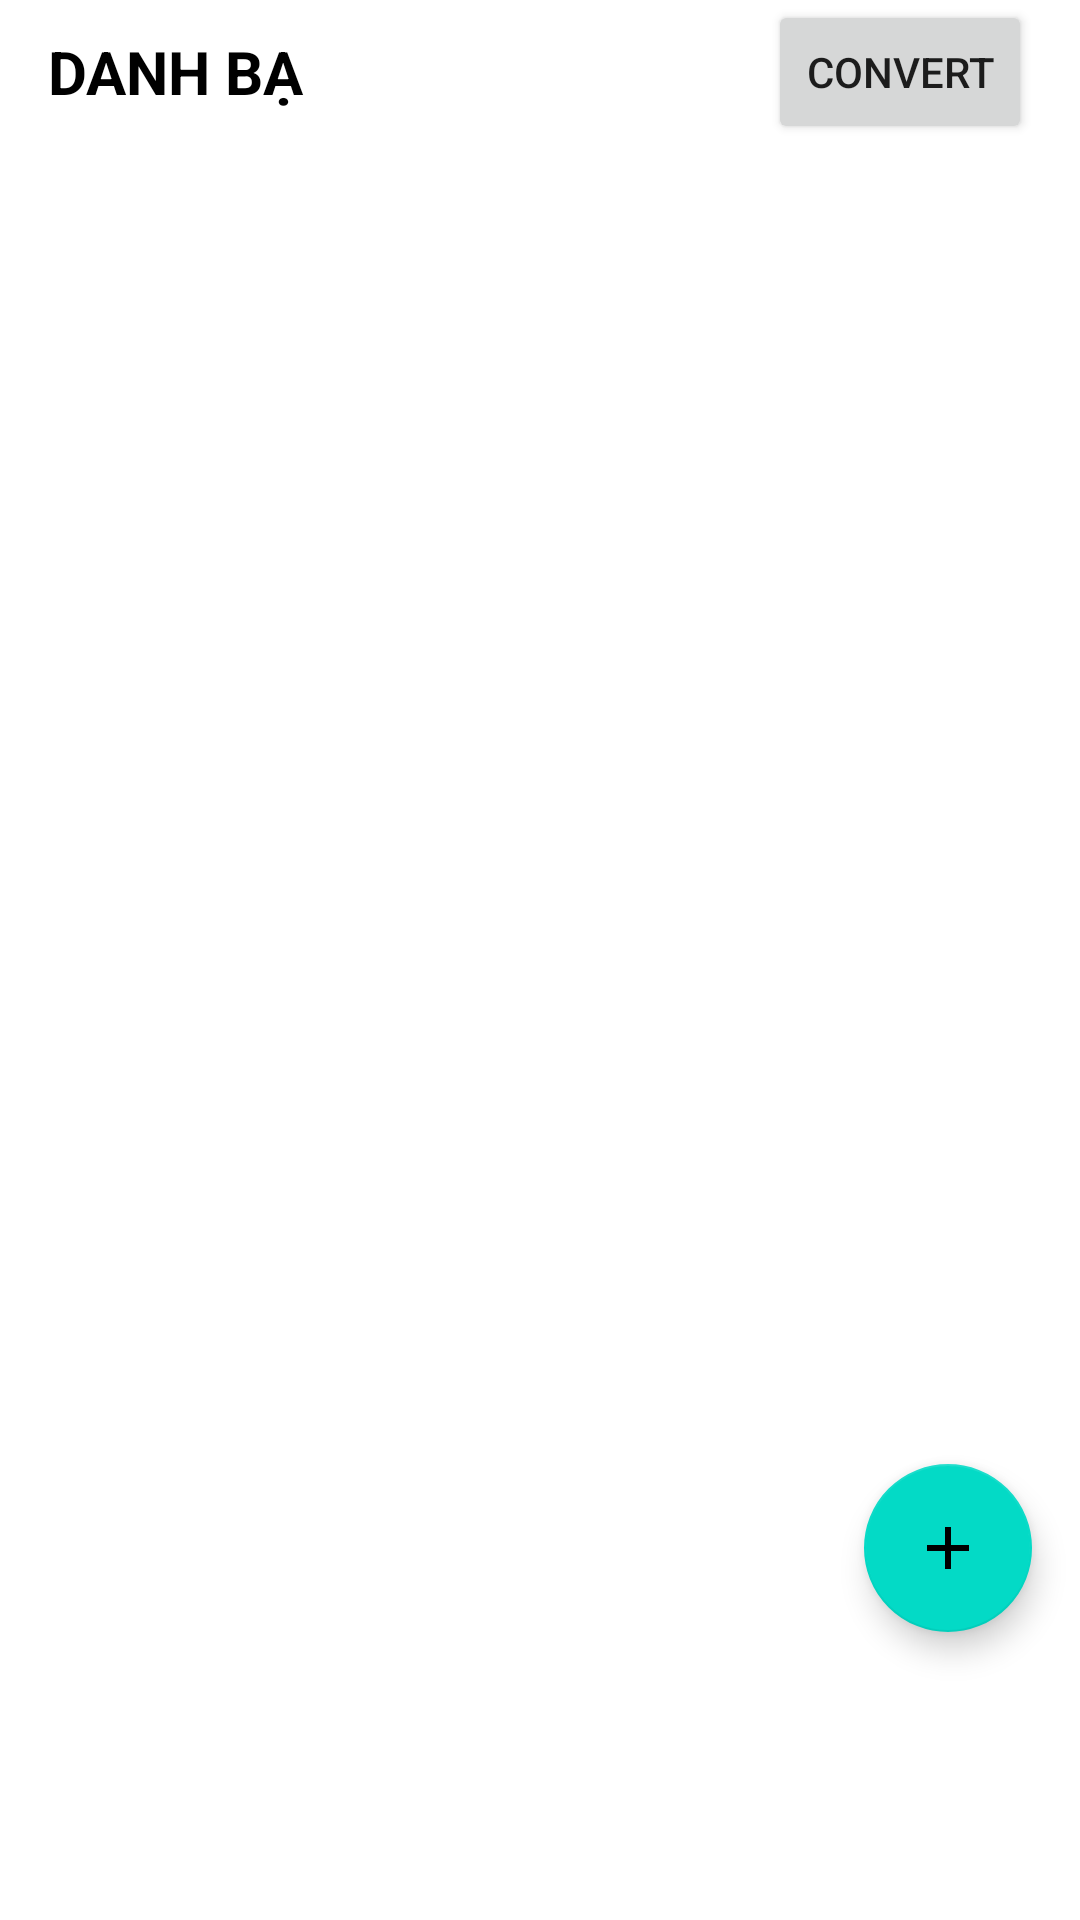

Locate icon controls on the screen. Image size 1080 x 1920, boxes as region(x1, y1, x2, y2).
add: region(864, 1464, 1032, 1632)
